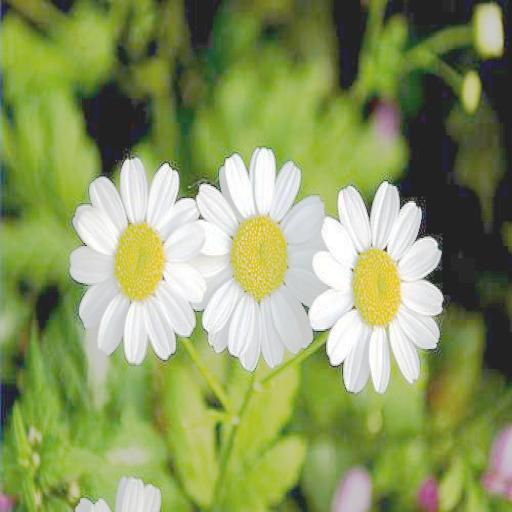daisy: (206, 146, 326, 371), (316, 183, 442, 394), (73, 164, 206, 360)
